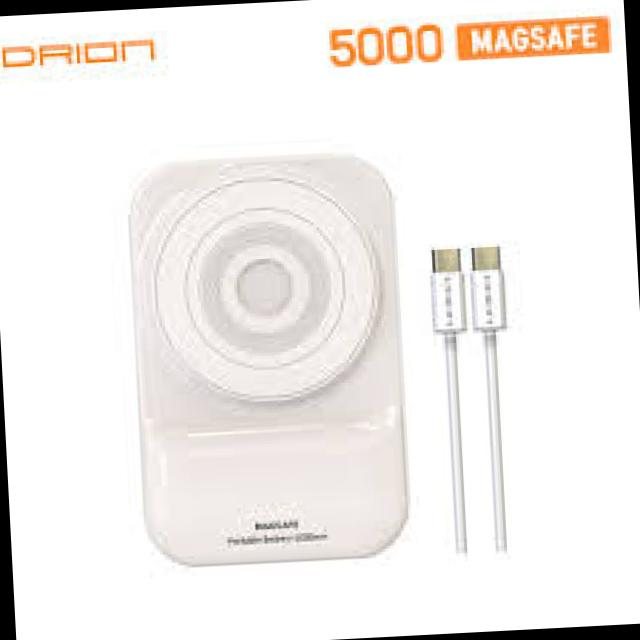portable-charger: (125, 144, 422, 568)
